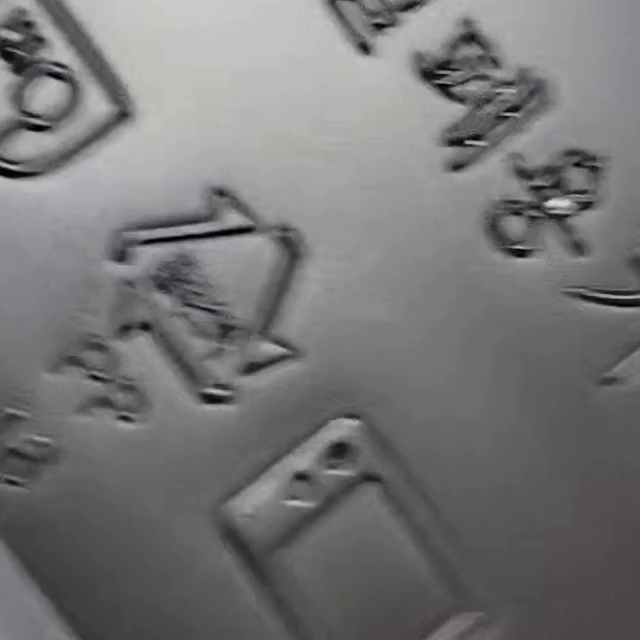Plastic: (107, 184, 307, 410)
